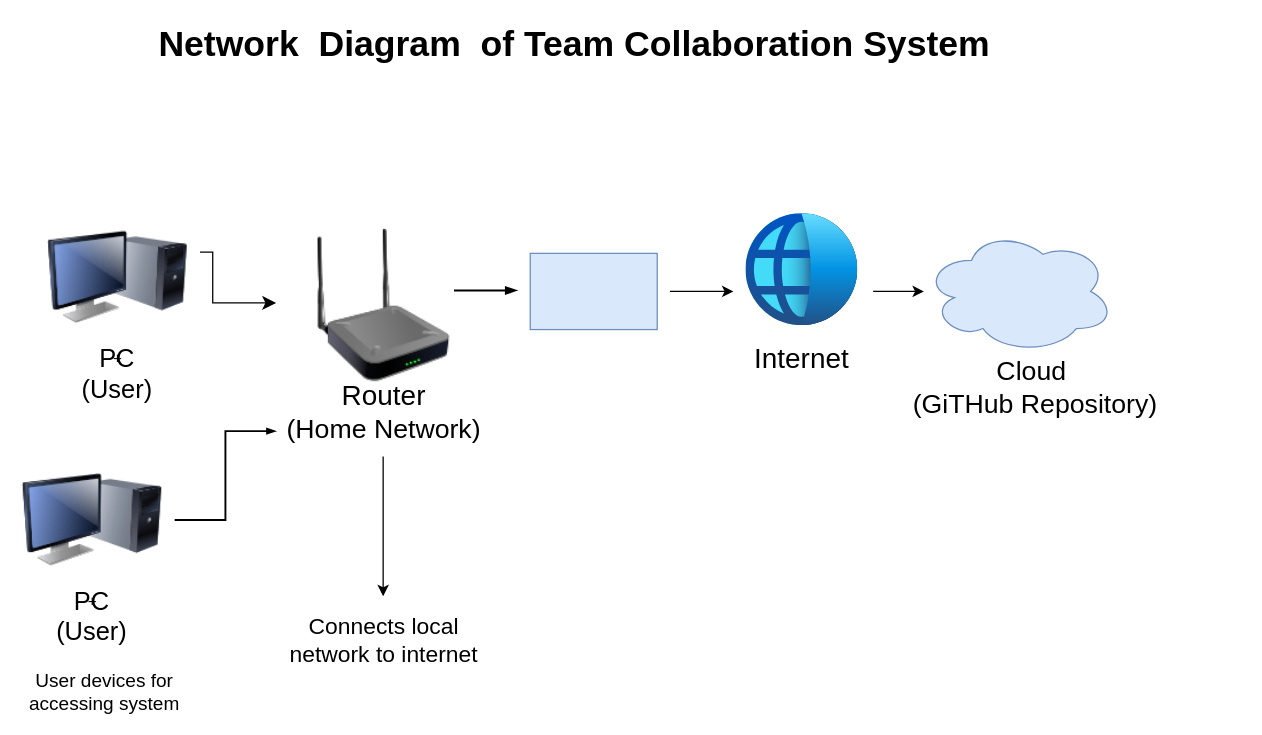
Some shapes in this 1262 by 735 pixel diagram are drawn without their labels. Here are the shapes that lost their labels. From the top down, the box of each, then its label:
(529, 252, 657, 330): ISP
(923, 228, 1114, 353): Cloud
